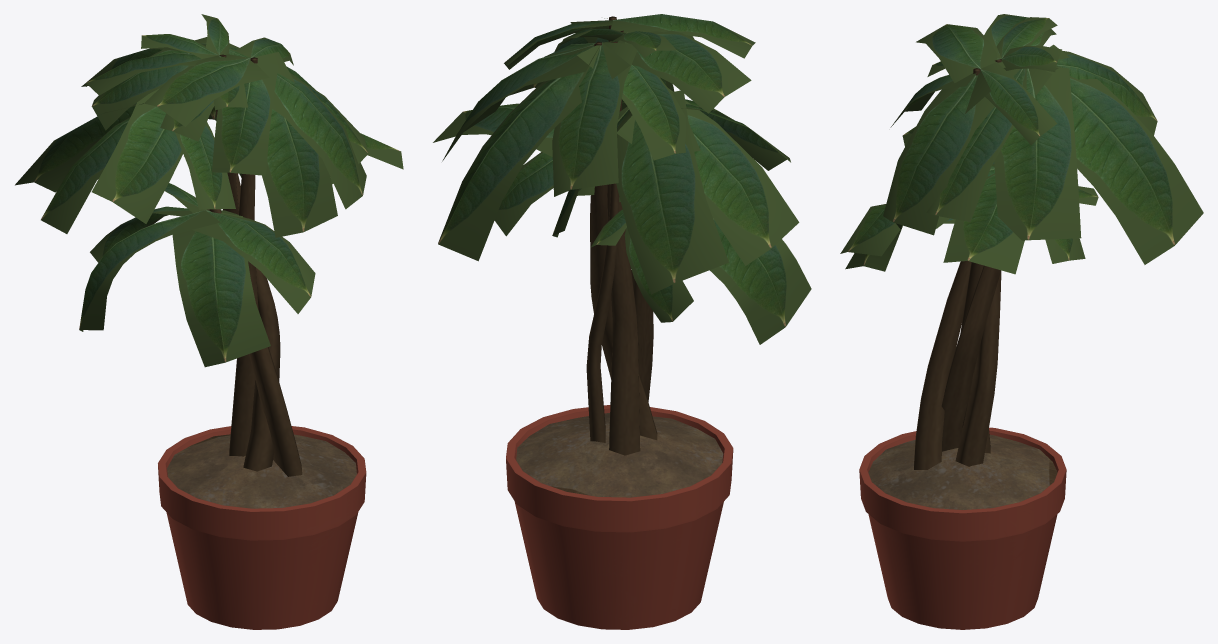
Rendered from plant3.glb.
3 views of the same model, side by side, from view 1: azimuth 30°, elevation 25°; view 2: azimuth 150°, elevation 25°; view 3: azimuth 270°, elevation 25° (orthographic). The views are drawn at different scales.
Parts seen in each view (by area): view 1: eb_house_plant_03; view 2: eb_house_plant_03; view 3: eb_house_plant_03.
Boxes of the visible parts, box(x1,y1,x2,y2) form: eb_house_plant_03: box(15, 14, 403, 629); eb_house_plant_03: box(433, 14, 811, 629); eb_house_plant_03: box(840, 14, 1203, 629).
Bounding box in the file's own units: 37.41 × 60.62 × 36.63.
1 material, 1 textured.
